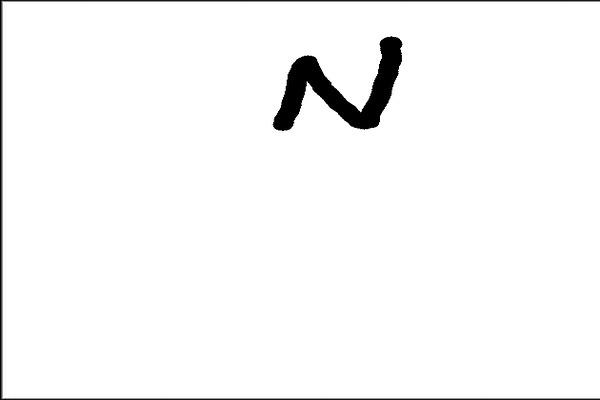N: (266, 31, 411, 134)
